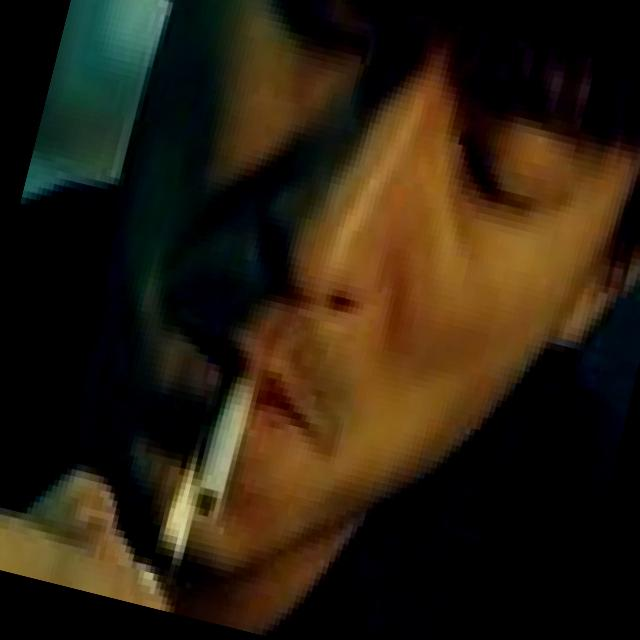cigarette: (168, 335, 273, 529)
